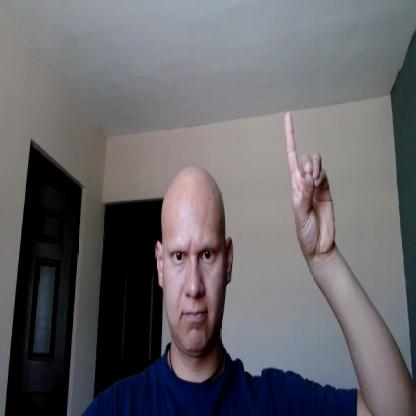D: (284, 107, 337, 256)
